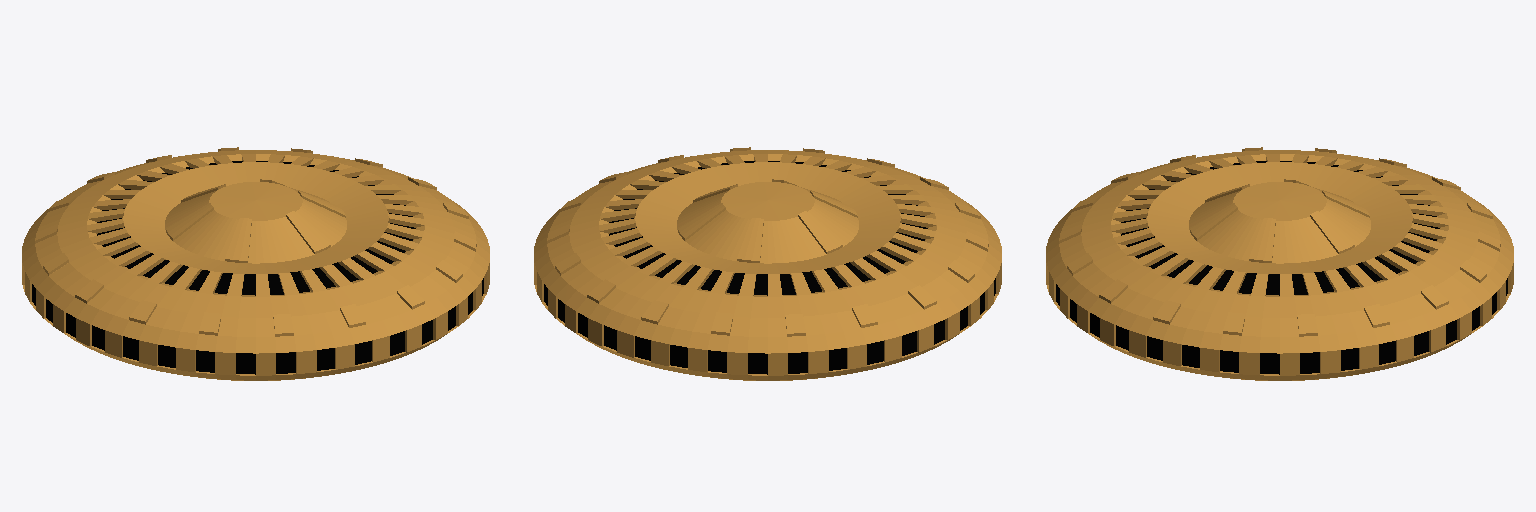
The model's file is ufo.obj.
The picture shows the model from 3 angles: view 1: azimuth 30°, elevation 25°; view 2: azimuth 150°, elevation 25°; view 3: azimuth 270°, elevation 25°; orthographic projection.
Parts seen in each view (by area): view 1: Sphere; view 2: Sphere; view 3: Sphere.
Boxes of the visible parts, box(x1,y1,x2,y2) form: Sphere: box(22, 147, 489, 380); Sphere: box(534, 147, 1001, 380); Sphere: box(1046, 147, 1513, 380).
Bounding box in the file's own units: 0.5885 × 0.1578 × 0.5885.